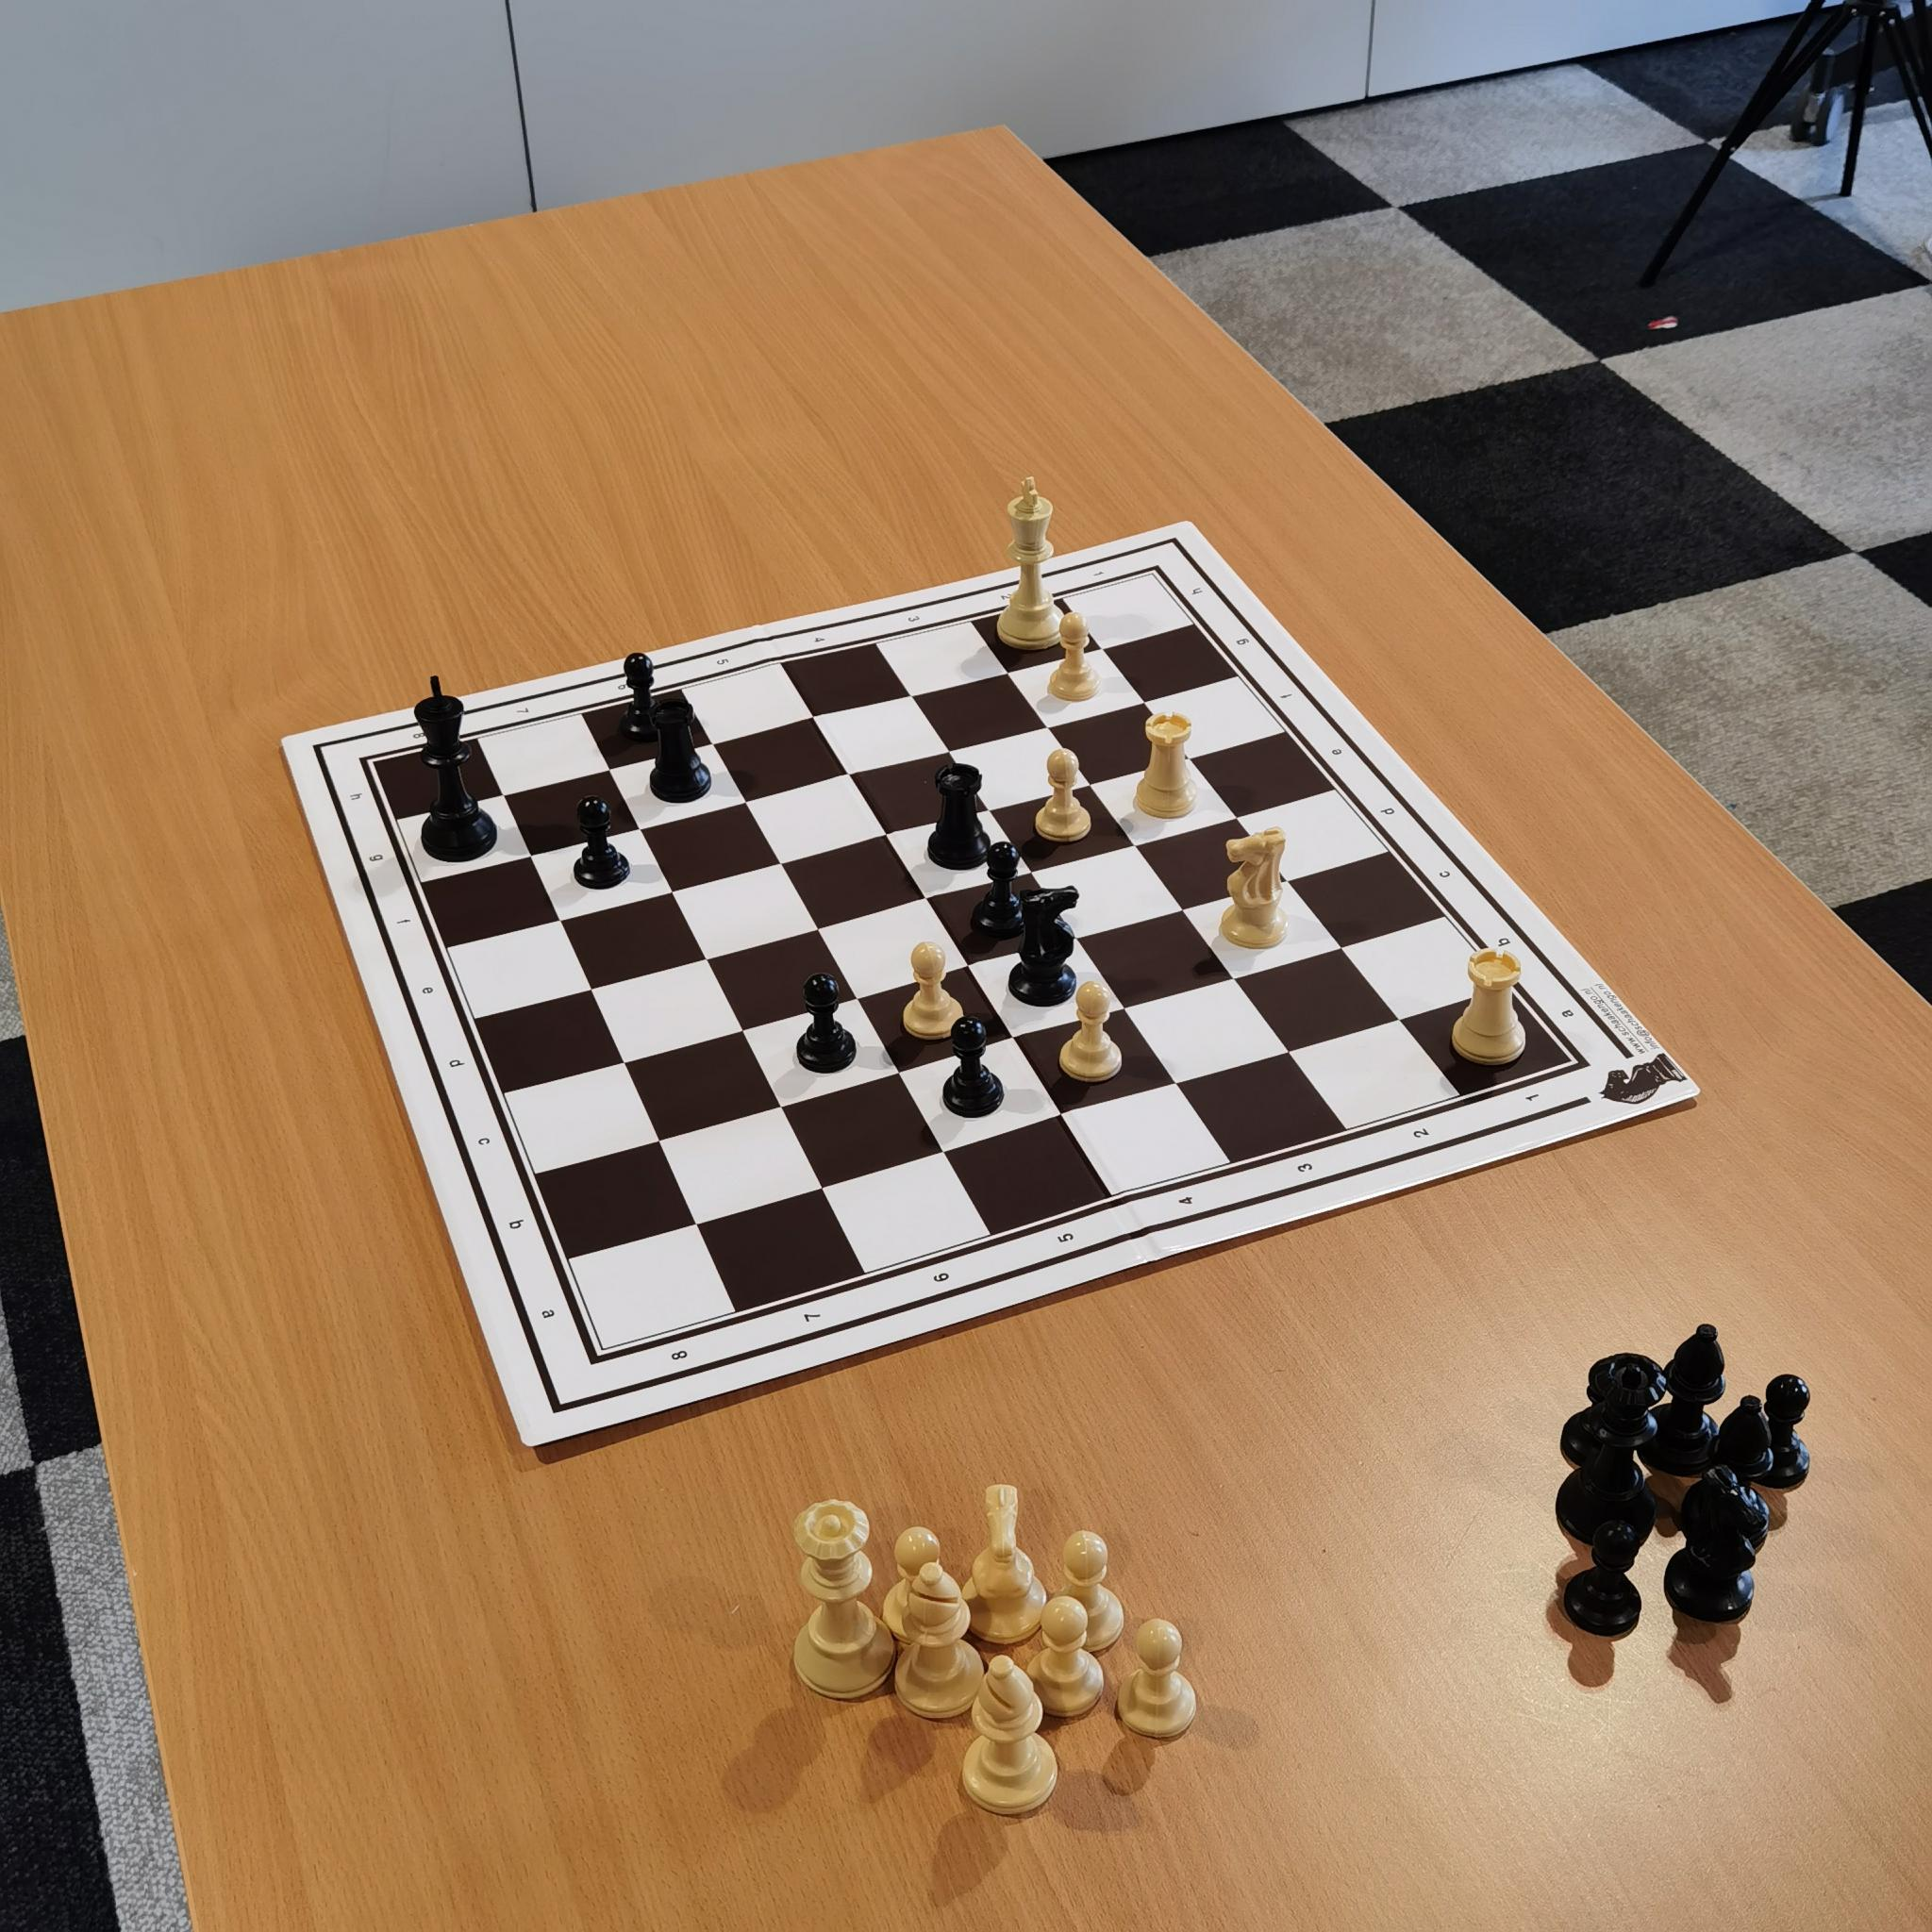corners: (580, 1334, 623, 1375), (1552, 1044, 1594, 1083), (1132, 557, 1169, 591), (349, 750, 389, 780)
eight: (662, 1336, 701, 1380), (403, 722, 435, 754)
one: (1507, 1076, 1552, 1115), (1086, 557, 1116, 587)
